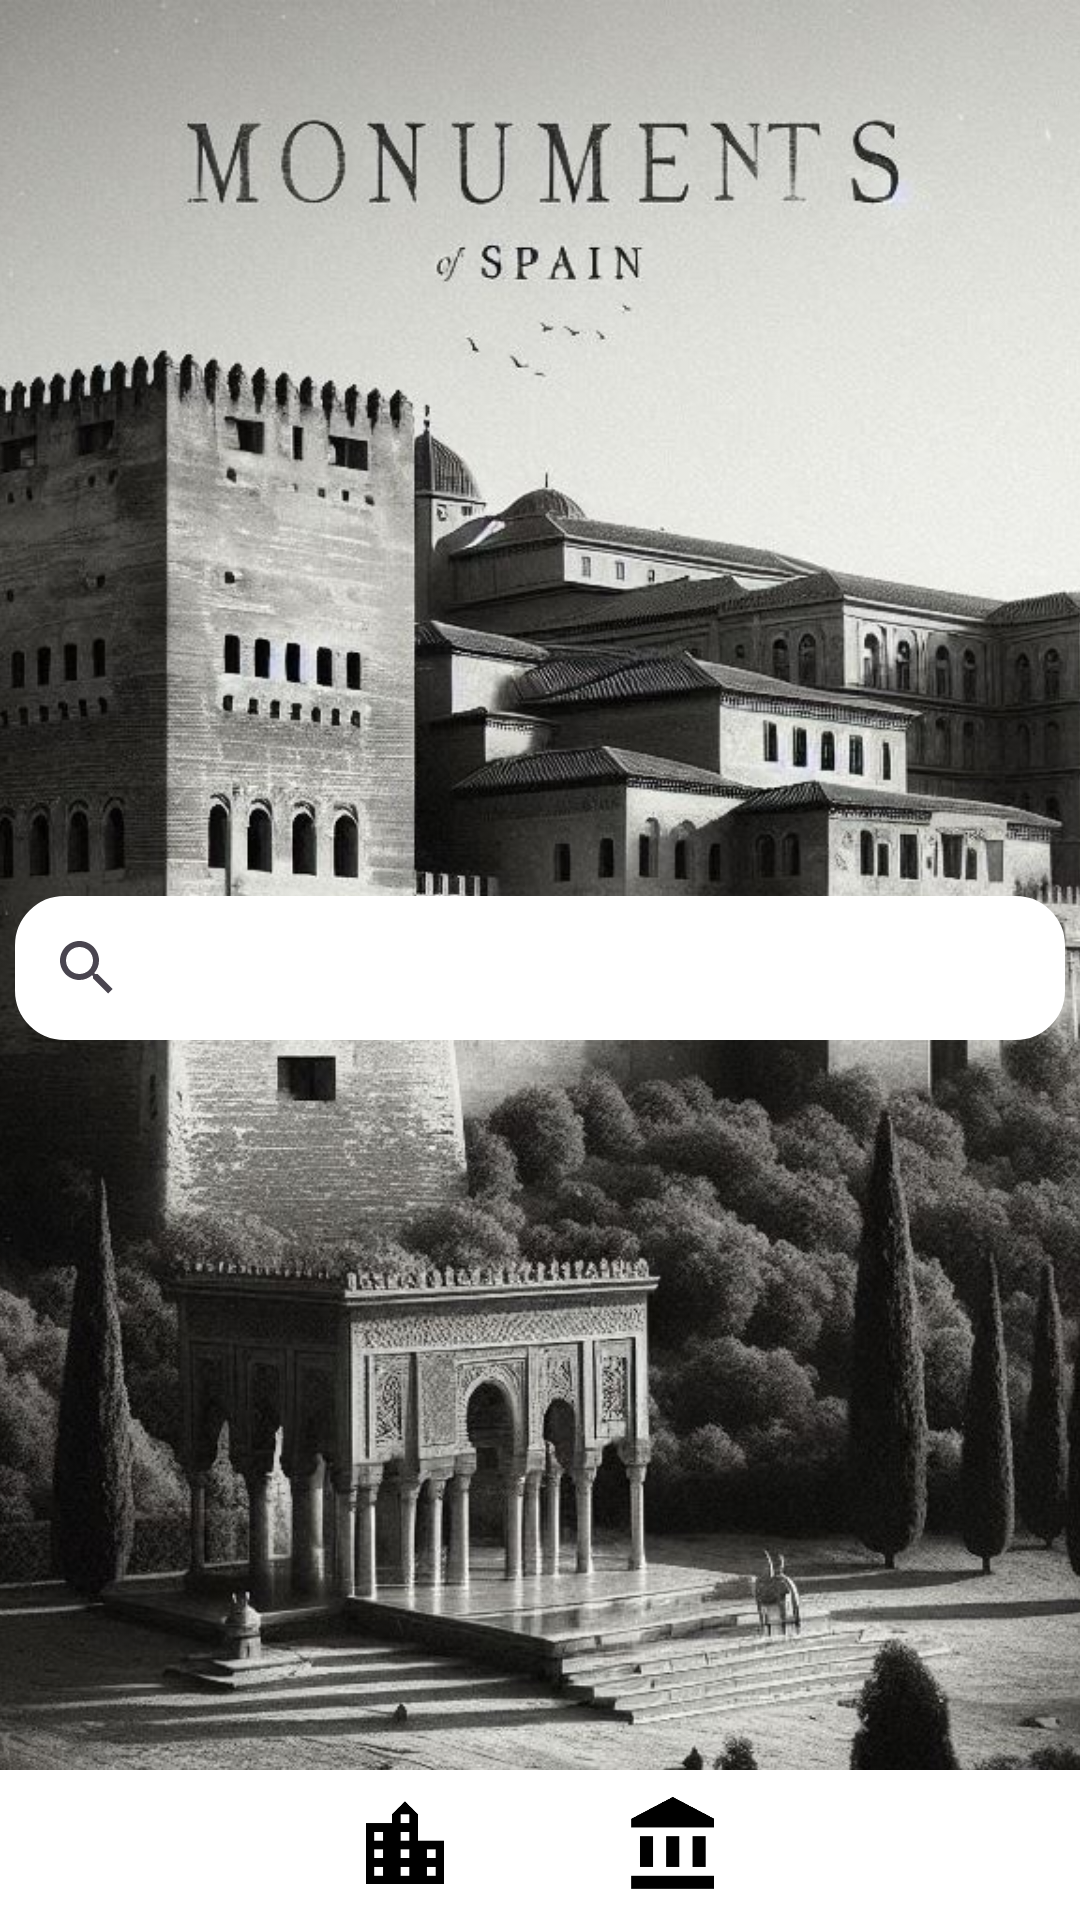

Icons on this 1080px x 1920px Android screen, each with the point to tap as (x=x, y=y):
cities: (x=405, y=1842)
monumentos: (x=672, y=1843)
